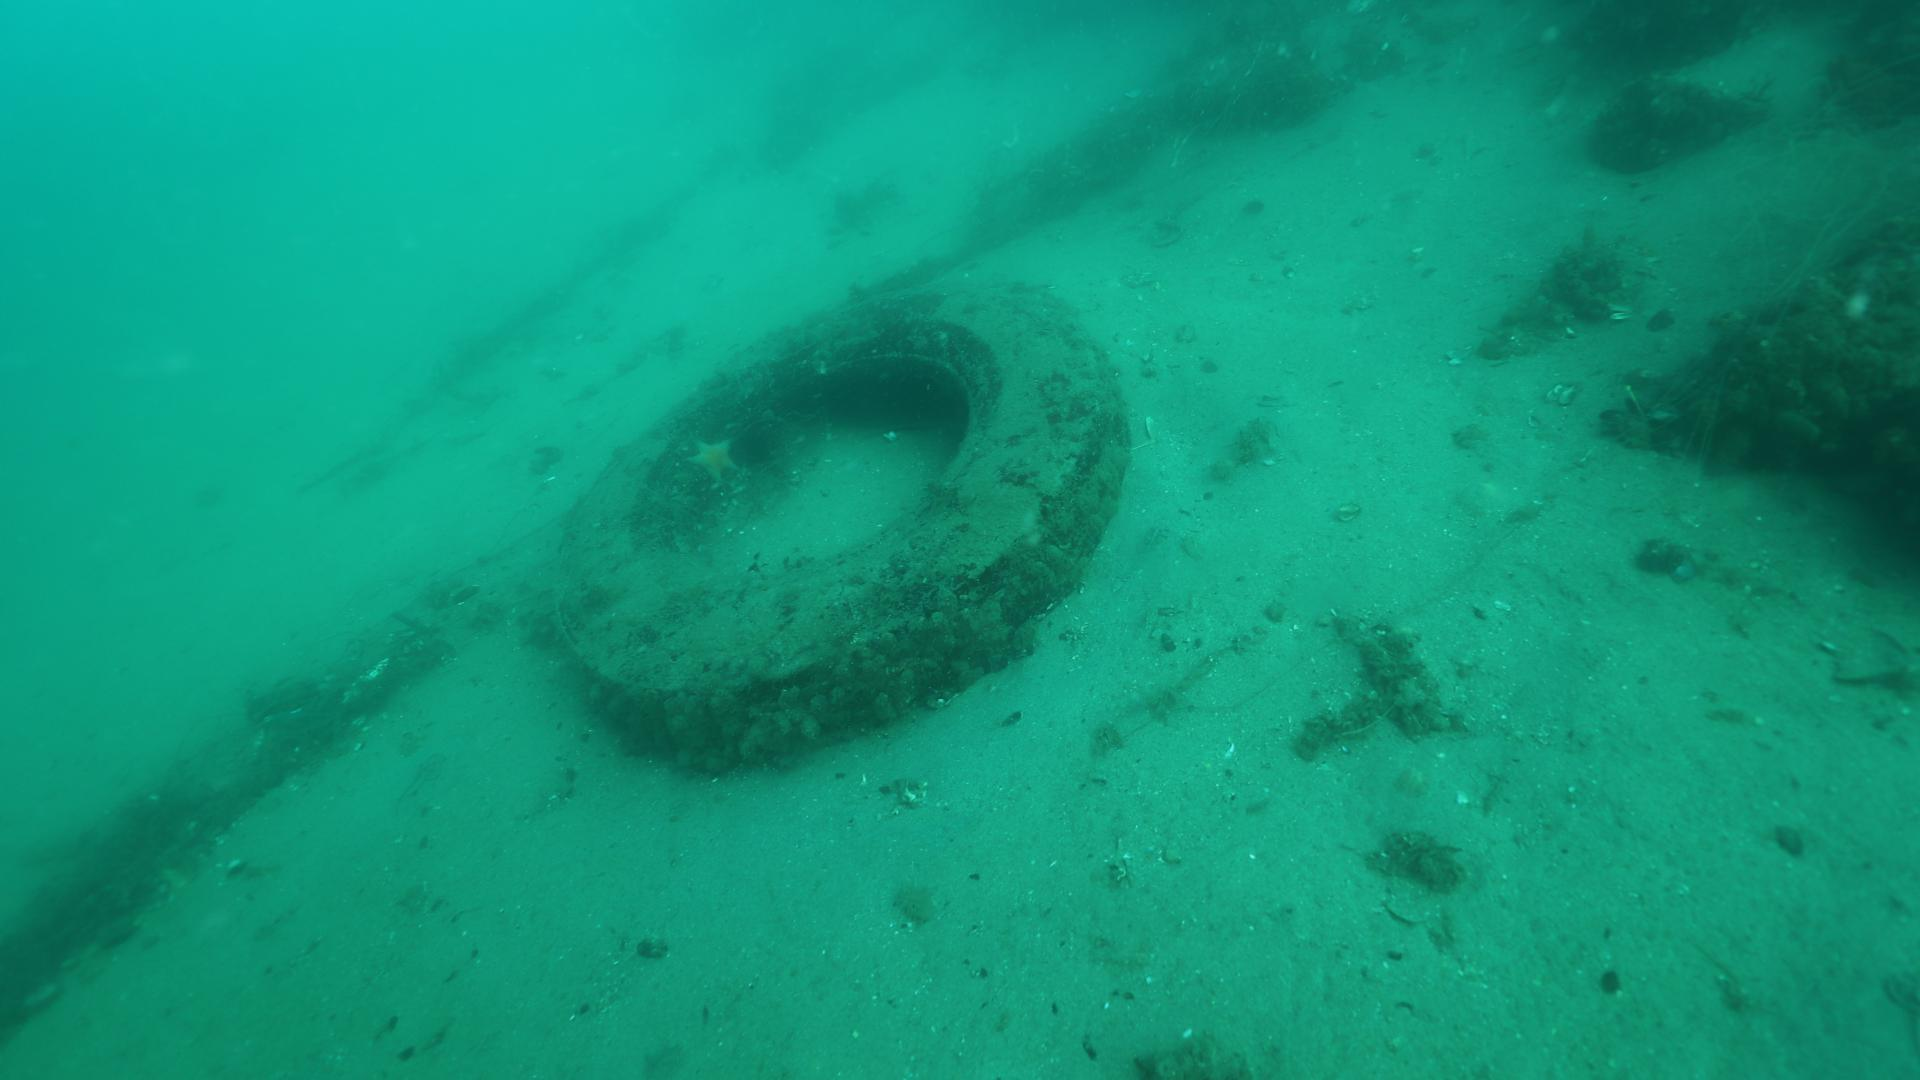tire: (560, 251, 1129, 773)
